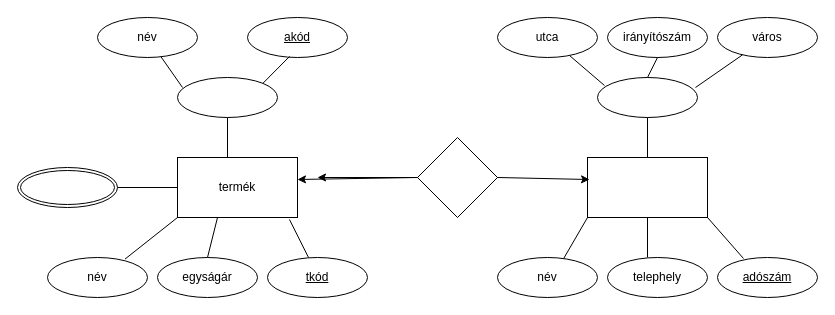
Some shapes in this 835 by 315 pixel diagram are drawn without their labels. The shapes that lost their labels are listed below. From the top down, each one's centre as x and y in pixels, then its label:
the point at 227,97: alkatrész
the point at 647,97: postai cím
the point at 67,187: egység_db
the point at 457,177: N:1
the point at 647,187: gyártó
